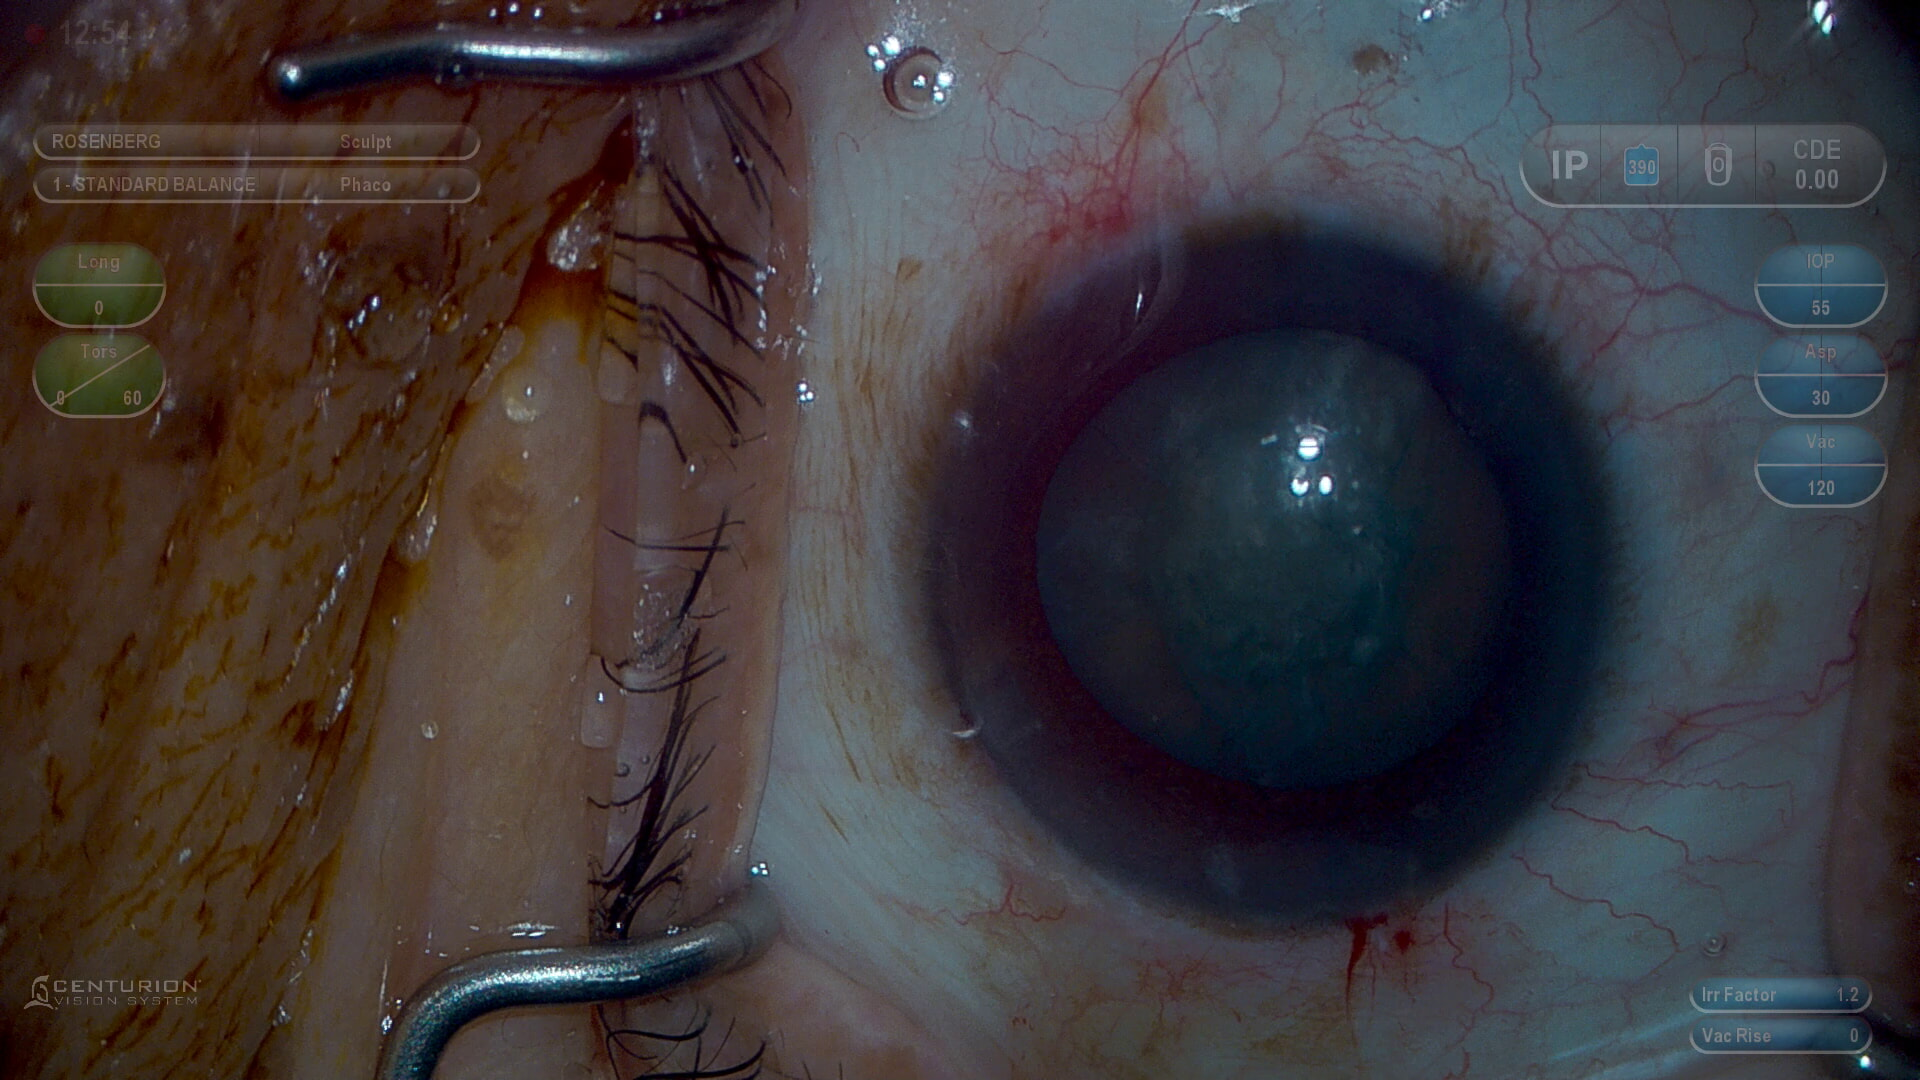iris: (933, 229, 1611, 912)
pupil: (1028, 338, 1503, 800)
